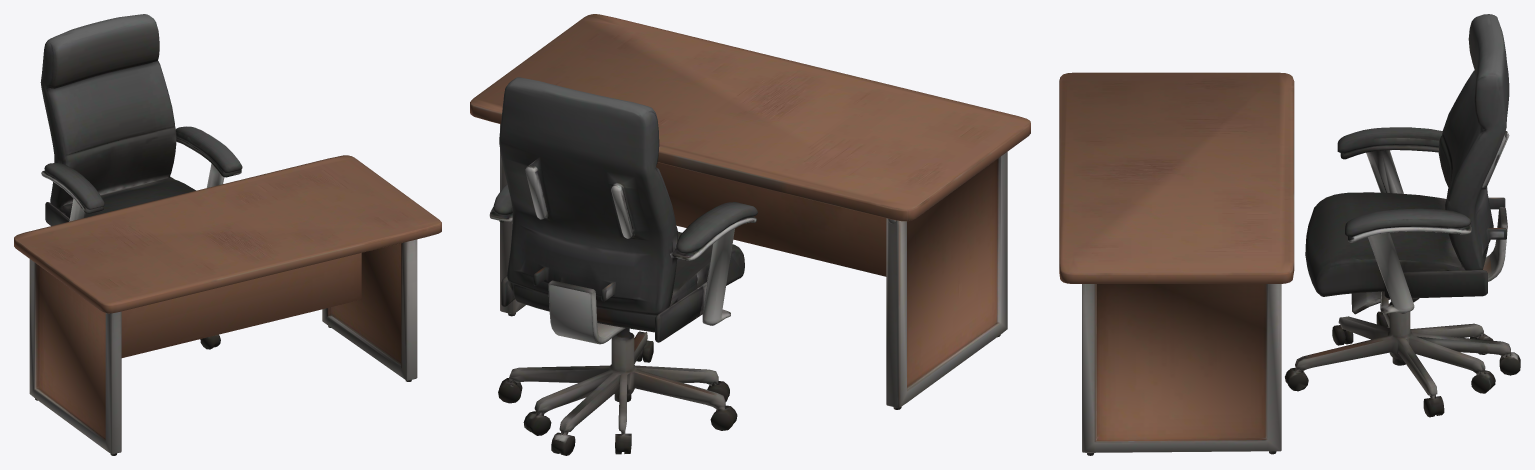
Rendered from Furniture__office_desk_realistic_style_22da1241_v4.cluster.glb.
The picture shows the model from 3 angles, left to right: view 1: azimuth 30°, elevation 25°; view 2: azimuth 150°, elevation 25°; view 3: azimuth 270°, elevation 25°; orthographic projection. The views are drawn at different scales.
Visible parts, largest first — view 1: texture_pbr_20250901; view 2: texture_pbr_20250901; view 3: texture_pbr_20250901.
Part boxes in pixels (box(x1,y1,x2,y2)): texture_pbr_20250901: box(14, 14, 441, 455); texture_pbr_20250901: box(470, 14, 1030, 455); texture_pbr_20250901: box(1059, 14, 1520, 455).
Size of the model in its own units: 1.9 by 1.45 by 1.84.
1 material, 1 textured.
